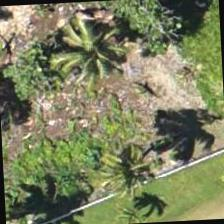Kelapa_Sawit: (34, 8, 130, 103)
